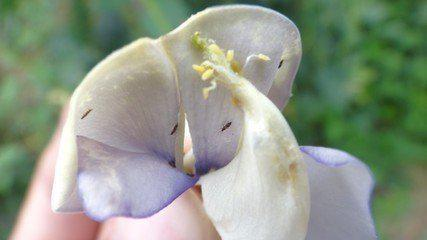tiny_pests: (213, 115, 236, 136), (77, 105, 96, 121), (167, 120, 181, 138), (276, 54, 287, 71)
